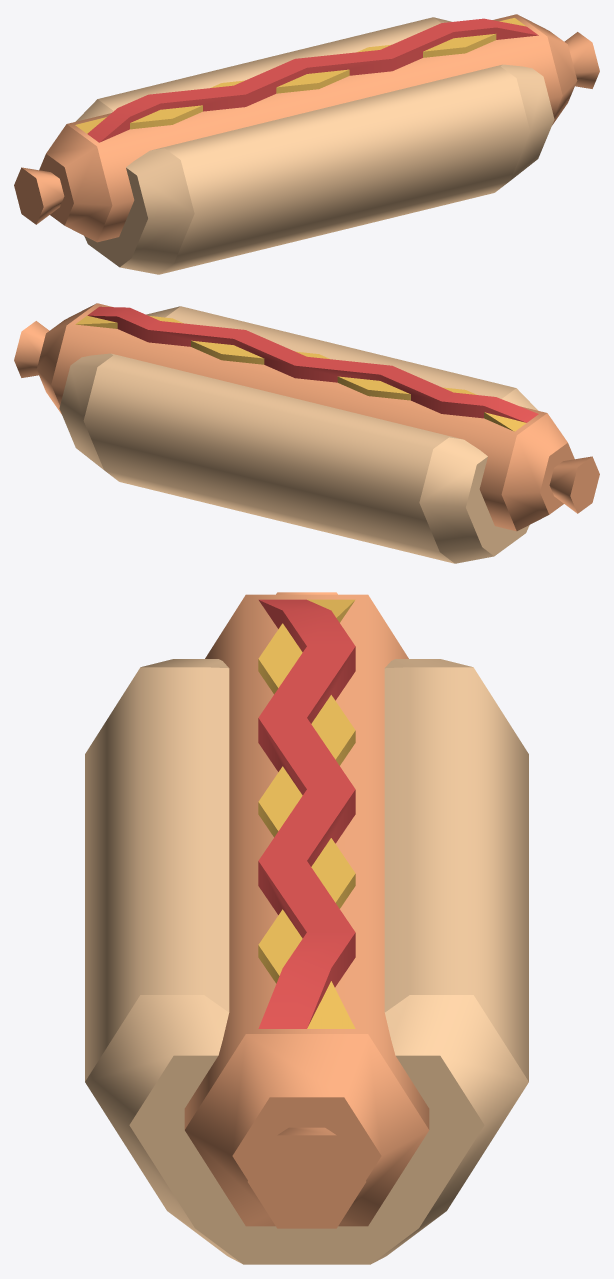
File: hotDog.dae
3 renders of one model, top to bottom at view 1: azimuth 30°, elevation 25°; view 2: azimuth 150°, elevation 25°; view 3: azimuth 270°, elevation 25°, orthographic. The views are drawn at different scales.
Visible parts, largest first — view 1: hotDog, sausage, sauce; view 2: hotDog, sausage, sauce; view 3: hotDog, sausage, sauce.
Part boxes in pixels (box(x1,y1,x2,y2)): hotDog: box(75, 17, 554, 274); sausage: box(14, 14, 599, 242); sauce: box(75, 18, 538, 142); hotDog: box(59, 306, 538, 563); sausage: box(14, 303, 599, 531); sauce: box(75, 306, 538, 431); hotDog: box(85, 659, 528, 1264); sausage: box(184, 592, 429, 1228); sauce: box(258, 599, 355, 1028).
Size of the model in its own units: 0.5859 by 0.1525 by 0.2026.
